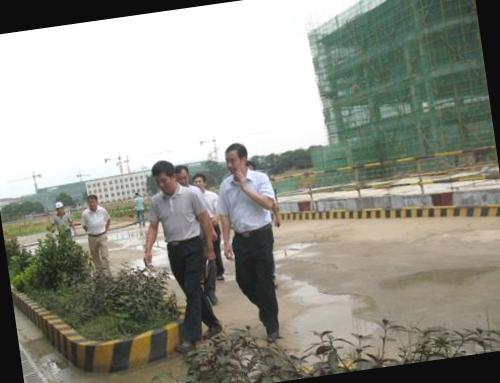no_helmet: (221, 136, 254, 180), (148, 157, 180, 196), (174, 160, 192, 187), (192, 170, 211, 195), (82, 190, 102, 212)
